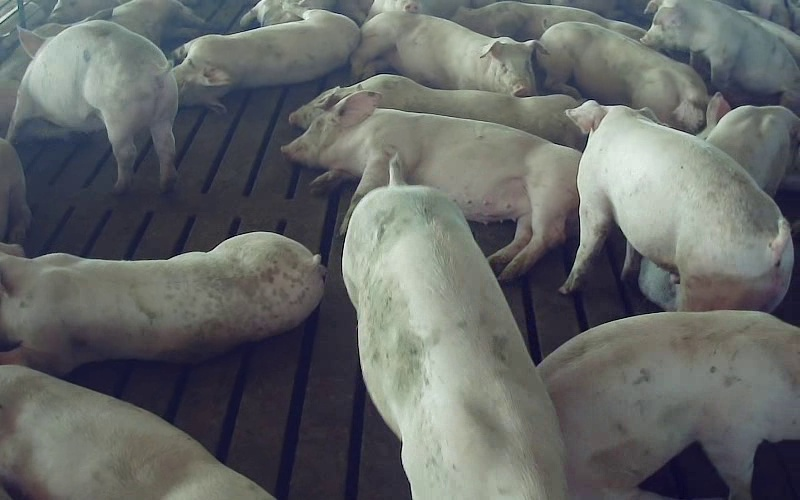pig: (342, 156, 566, 499), (282, 91, 578, 280), (538, 312, 799, 499), (561, 101, 792, 310), (0, 232, 325, 374), (8, 20, 177, 192), (289, 74, 585, 150), (174, 4, 359, 110), (537, 22, 708, 133), (641, 0, 799, 111), (351, 12, 537, 96)
